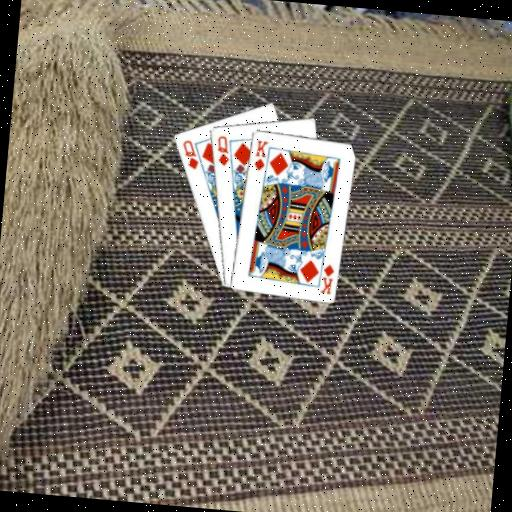KD: (317, 260, 336, 295), (251, 137, 269, 173)
QD: (177, 136, 201, 171), (212, 132, 233, 168)
